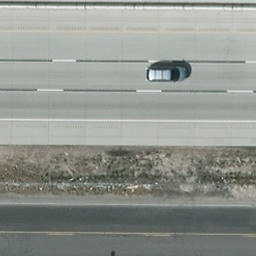car: (145, 66, 189, 83)
